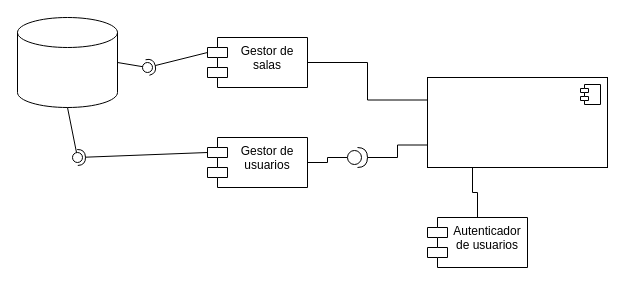
Some shapes in this 625 by 285 pixel diagram are drawn without their labels. The shapes that lost their labels are listed below. From the top down, each one's centre as x and y in pixels, then its label:
At point (67, 62): "Base de datos UCT".
At point (517, 122): "«APP» Reservas de salas".
